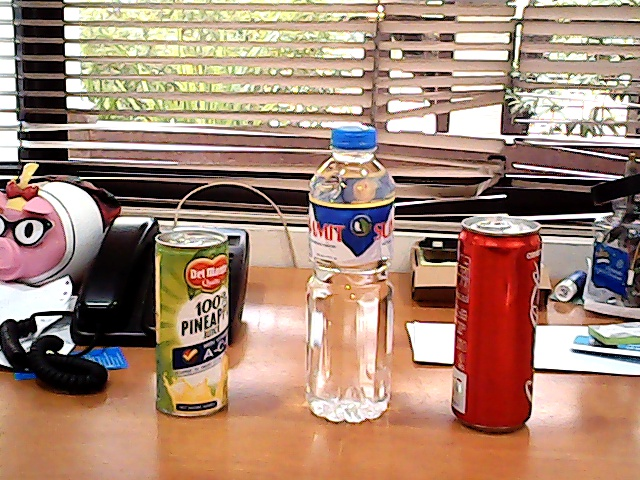Cola: (432, 208, 555, 440)
Pine Juice: (144, 225, 242, 428)
Summit Water: (297, 122, 411, 433)
